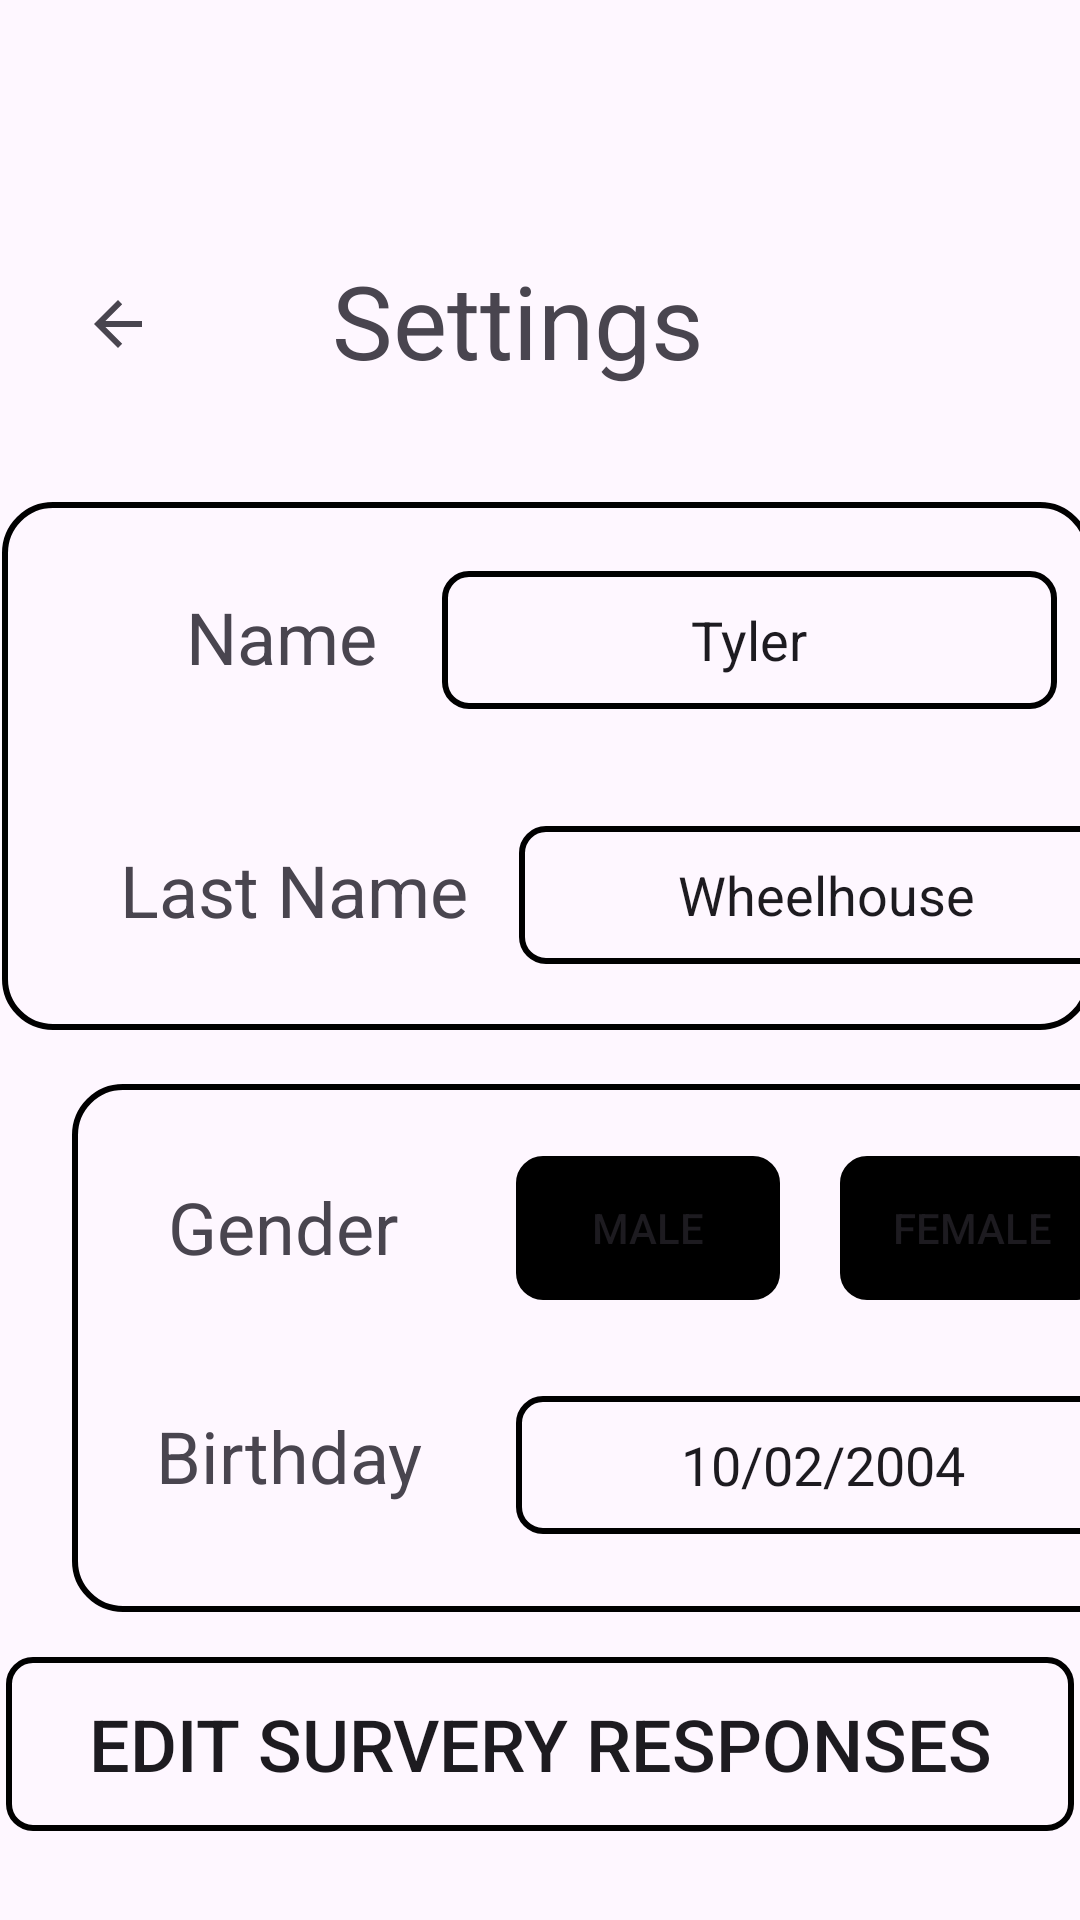

Point at icon controls on the screen. Image size 1080*1920, points as (x=x, y=y).
Back: (x=118, y=324)
